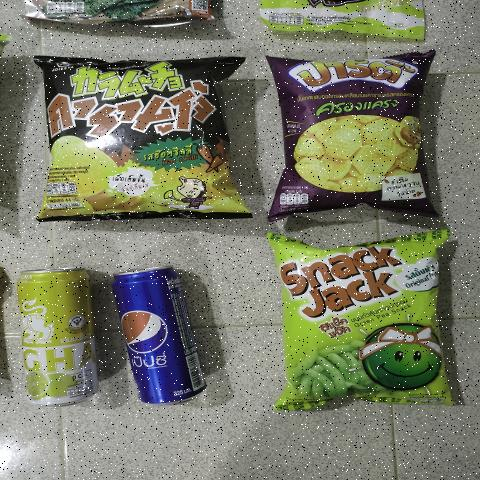karamujo: (43, 63, 231, 207)
party_purple: (276, 59, 423, 201)
pepsi_blue: (112, 266, 208, 406)
singha_yellow: (13, 269, 103, 404)
snack_jack: (277, 241, 452, 404)
